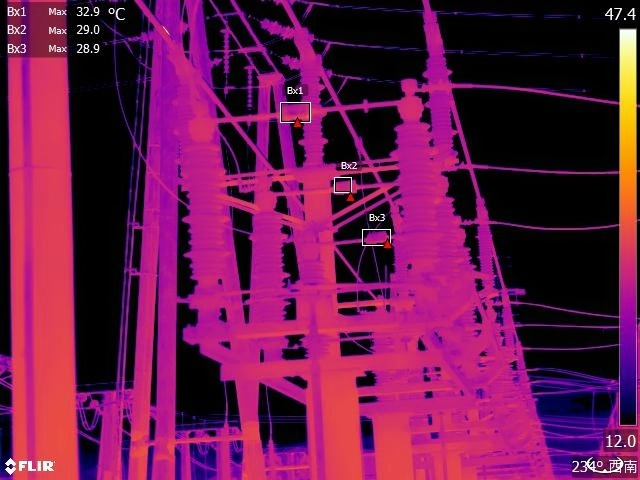insulator: (258, 14, 321, 44), (218, 23, 235, 81), (240, 60, 255, 112)
post insulator: (180, 135, 234, 283), (394, 121, 443, 268), (244, 210, 288, 326), (296, 68, 333, 165), (421, 54, 458, 148), (291, 223, 328, 289), (472, 222, 501, 289)
